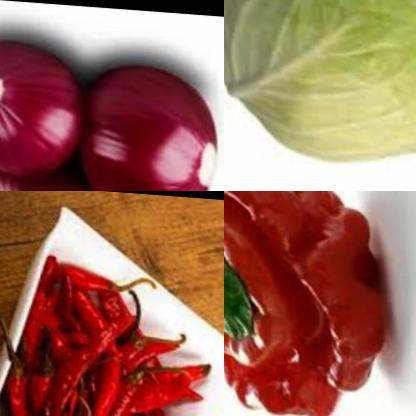cabbage: (224, 0, 416, 171)
hot pepper: (224, 191, 404, 416), (0, 246, 224, 416)
onion: (73, 59, 224, 191), (0, 34, 91, 191), (0, 131, 115, 191)
